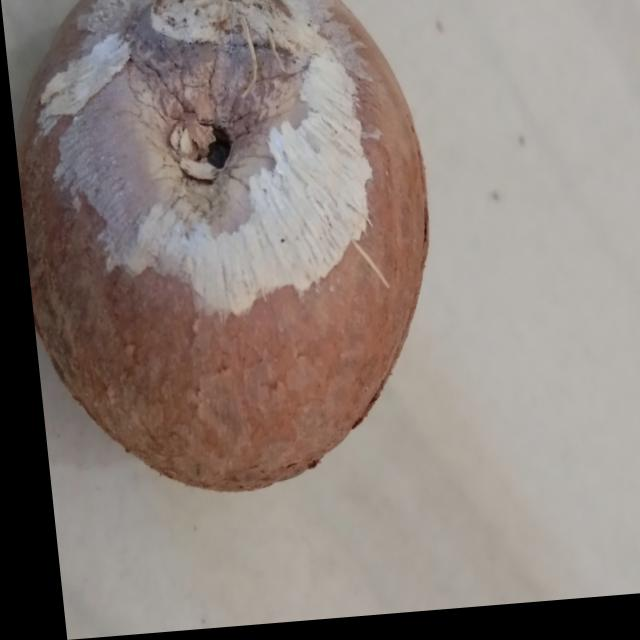phatora: (0, 0, 469, 535)
